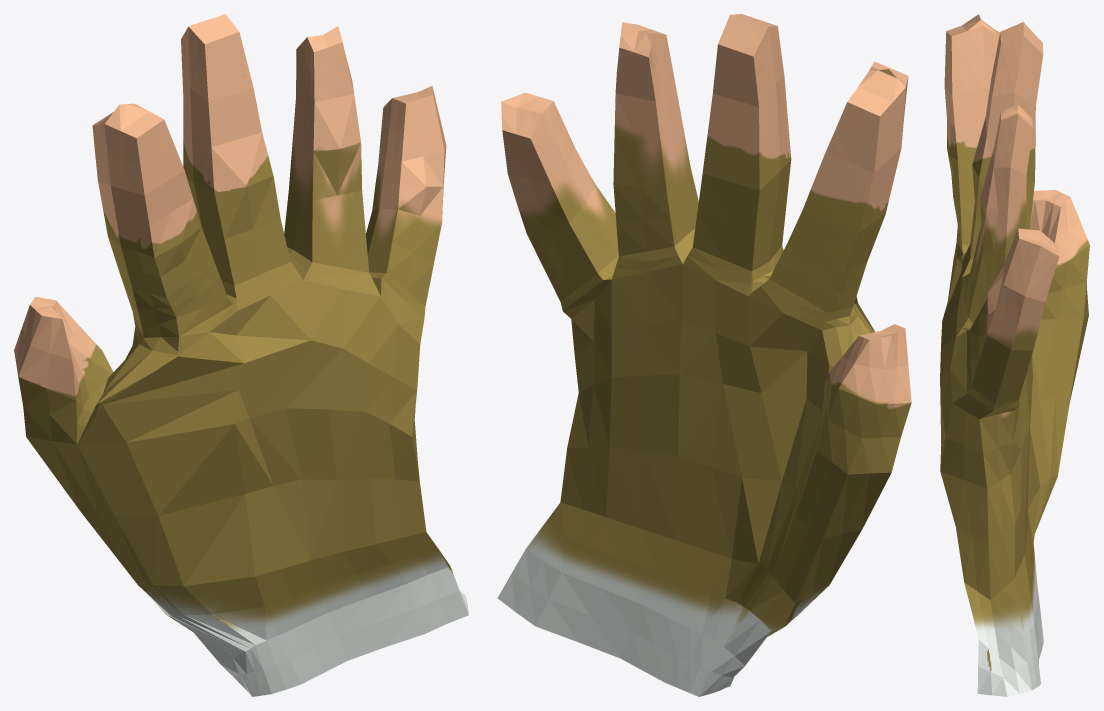
The model's file is flexion0001.obj.
The picture shows the model from 3 angles, left to right: view 1: azimuth 30°, elevation 25°; view 2: azimuth 150°, elevation 25°; view 3: azimuth 270°, elevation 25°; orthographic projection. The views are drawn at different scales.
Visible parts, largest first — view 1: Hand; view 2: Hand; view 3: Hand.
Boxes of the visible parts, x1,y1,x2,y2 form: Hand: (14,14,468,696); Hand: (497,14,911,696); Hand: (940,14,1089,696).
Bounding box in the file's own units: 3.27 × 4.97 × 1.12.
